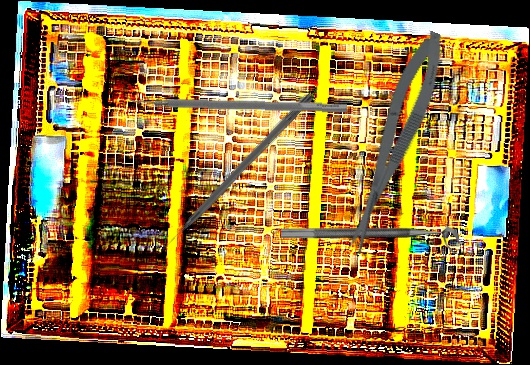Fixation Ring: (281, 227, 459, 254)
Micro Scissor: (331, 26, 457, 258)
Pusher: (154, 89, 316, 257)
Spatula Surgical: (125, 89, 348, 113)
